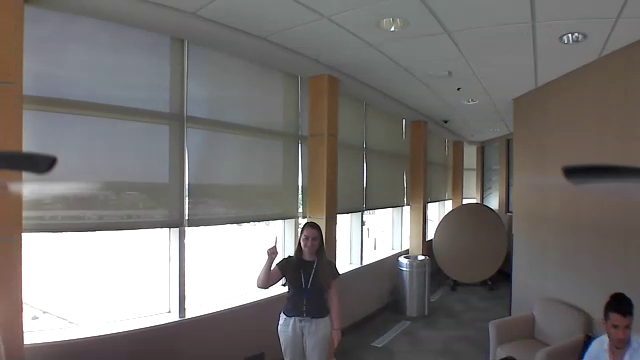up: (265, 235, 280, 262)
